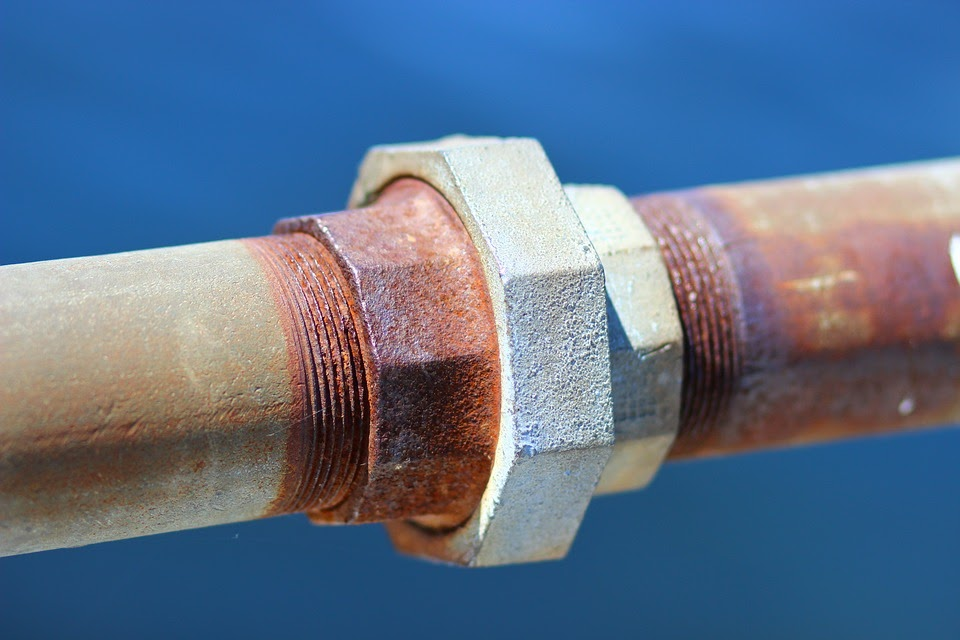Moderate: (627, 162, 958, 455), (257, 154, 497, 535)
